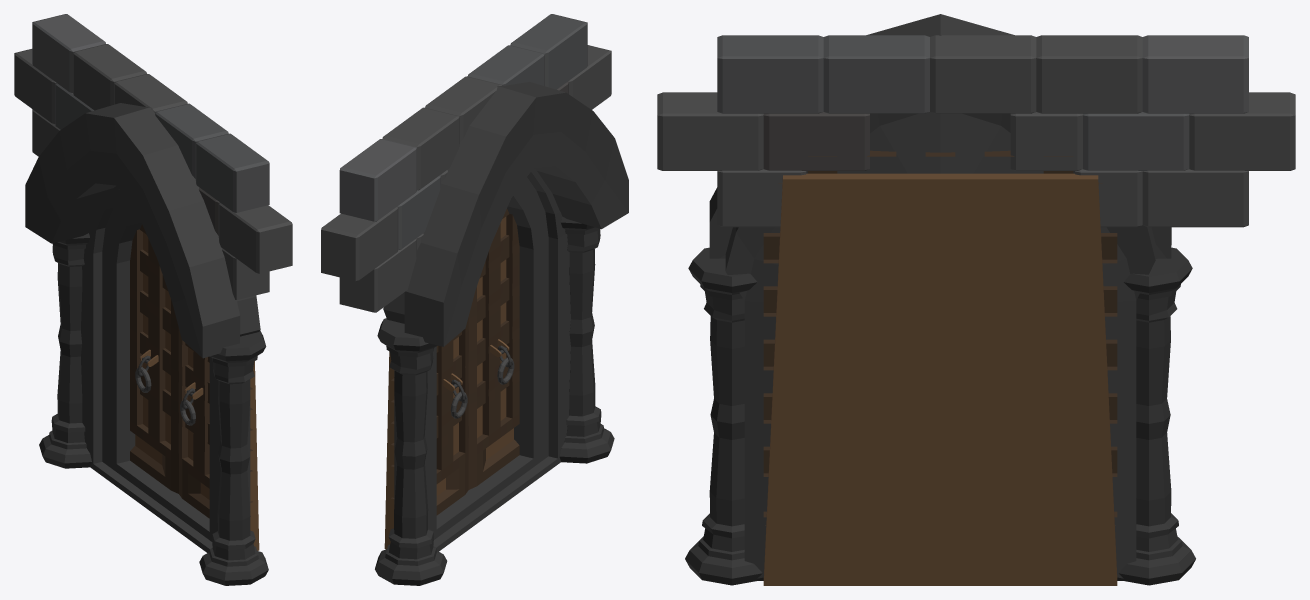
The model's file is Portone.fbx.
The picture shows the model from 3 angles, left to right: view 1: azimuth 30°, elevation 25°; view 2: azimuth 150°, elevation 25°; view 3: azimuth 270°, elevation 25°; orthographic projection. The views are drawn at different scales.
Parts seen in each view (by area): view 1: Cube; view 2: Cube; view 3: Cube.
Part boxes in pixels (x1=…): Cube: x1=14, y1=14, x2=292, y2=585; Cube: x1=321, y1=14, x2=628, y2=585; Cube: x1=657, y1=14, x2=1295, y2=585.
Bounding box in the file's own units: 113 × 570 × 621.
